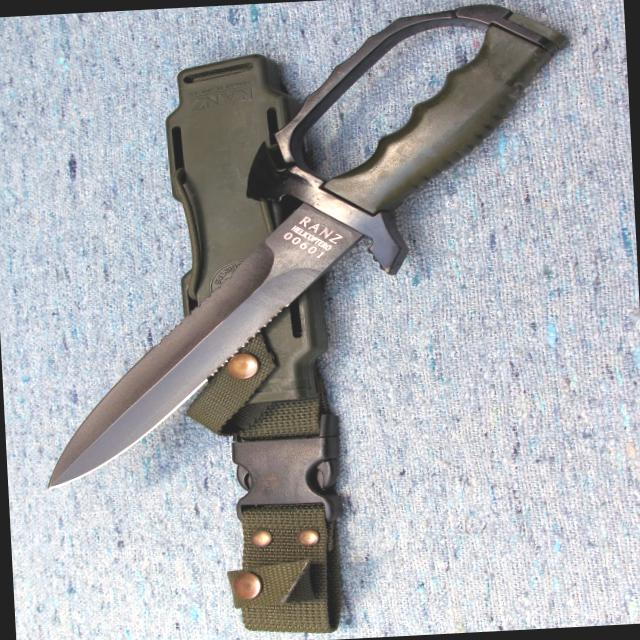knife: (13, 160, 426, 497)
